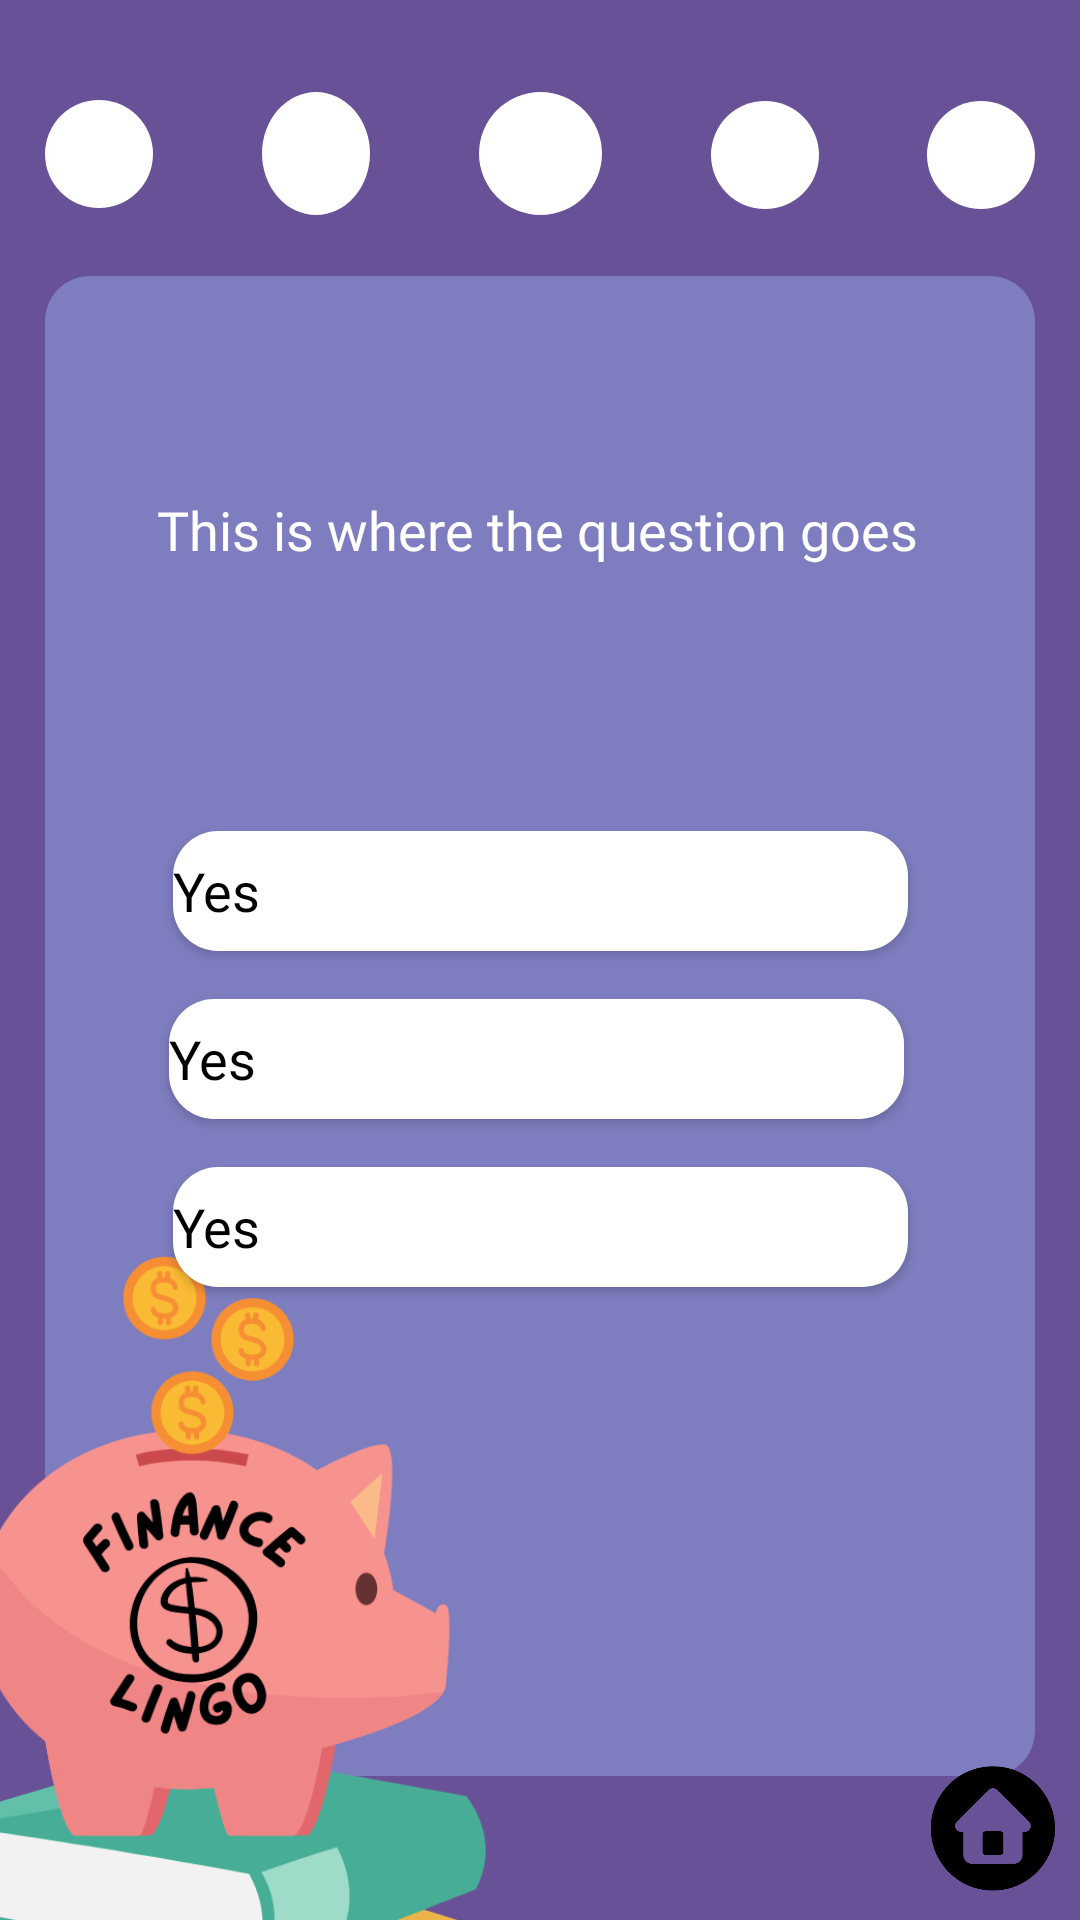

Point at icon controls on the screen. Image size 1080×1920, points as (x=x, y=y).
home: (x=993, y=1828)
